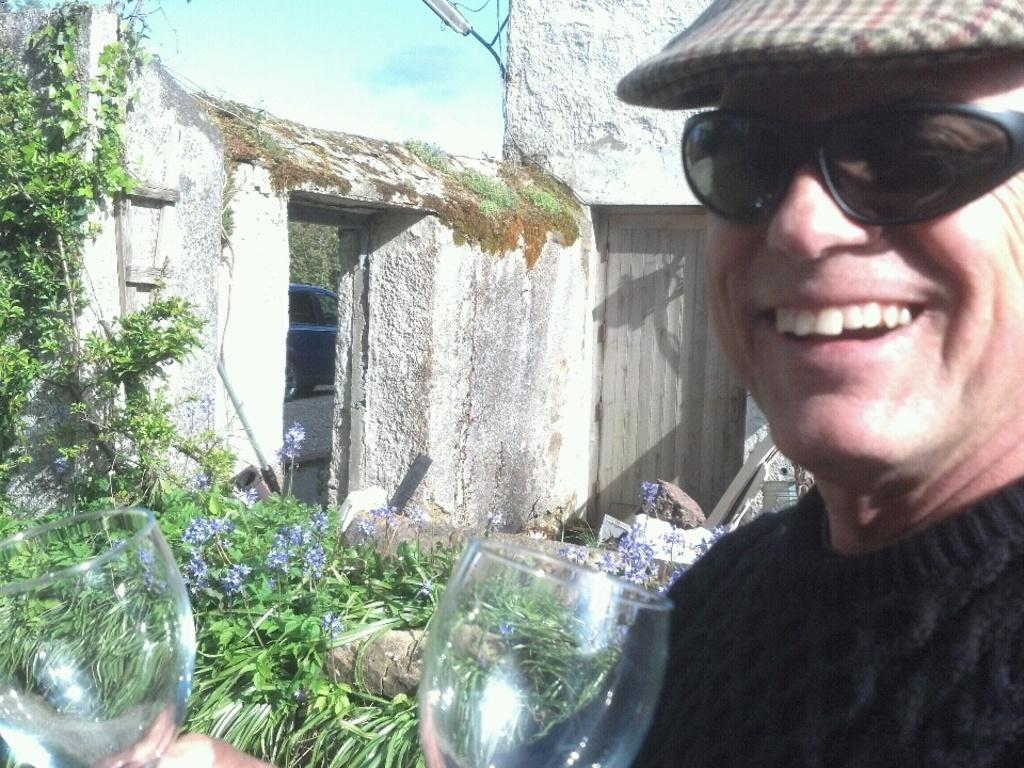Hat: (617, 1, 1022, 151)
